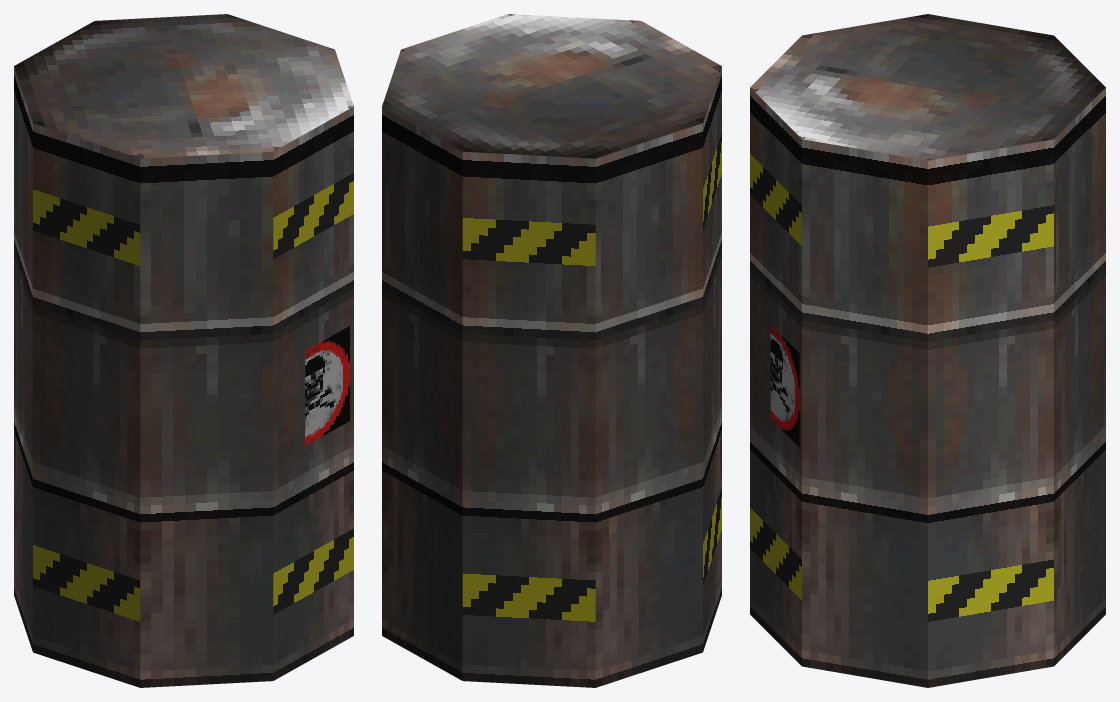
Rendered from primary_030.glb.
The picture shows the model from 3 angles, left to right: view 1: azimuth 30°, elevation 25°; view 2: azimuth 150°, elevation 25°; view 3: azimuth 270°, elevation 25°; orthographic projection.
Parts seen in each view (by area): view 1: Object; view 2: Object; view 3: Object.
Part boxes in pixels (box(x1,y1,x2,y2)): Object: box(14, 14, 353, 687); Object: box(382, 14, 721, 687); Object: box(750, 14, 1105, 687).
Size of the model in its own units: 0.9957 by 1.67 by 1.02.
Materials: 9 (9 with a texture image).
